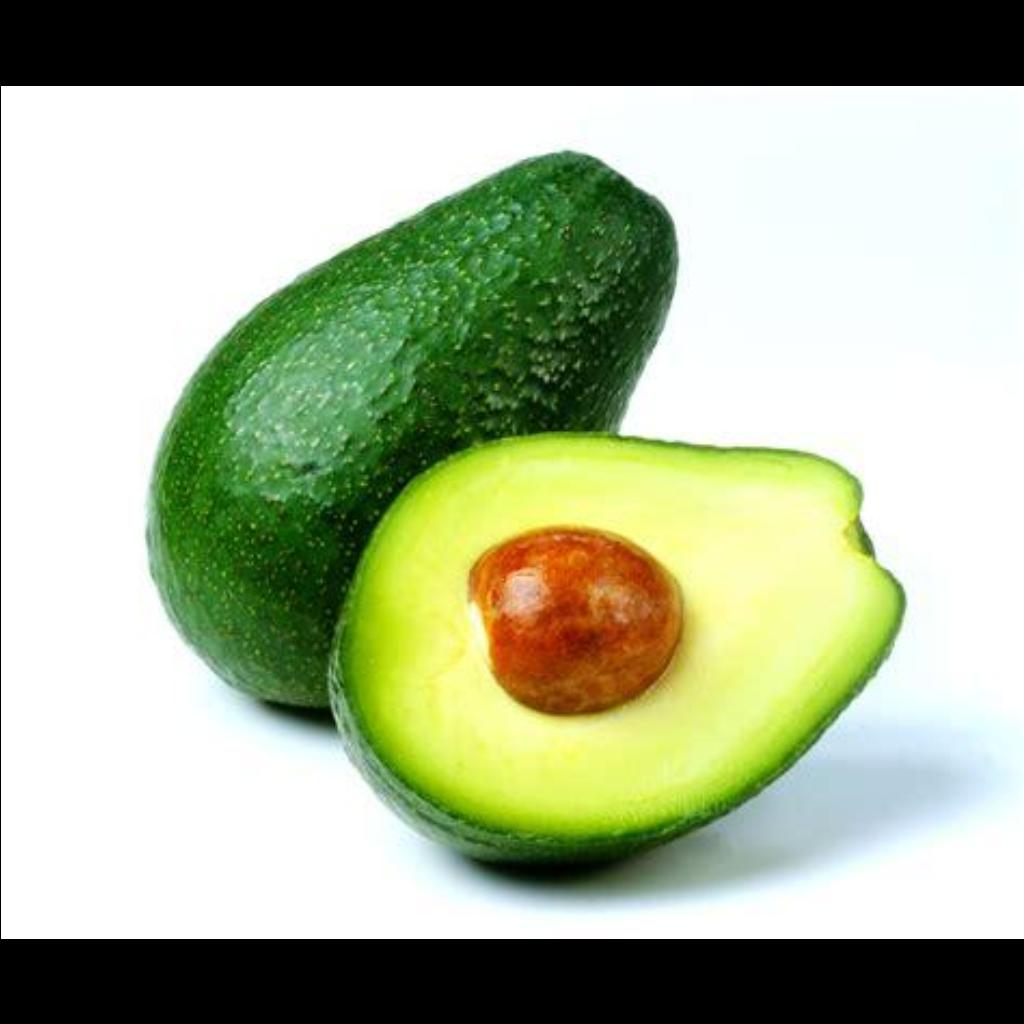fruto_sano: (80, 149, 905, 860)
